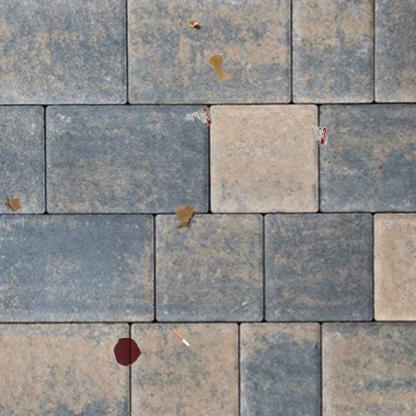dirty: (172, 202, 200, 231), (190, 106, 215, 128), (309, 124, 330, 146), (2, 193, 23, 215), (170, 327, 189, 348), (184, 15, 204, 32)
liquid: (113, 336, 142, 368), (208, 54, 237, 84)
